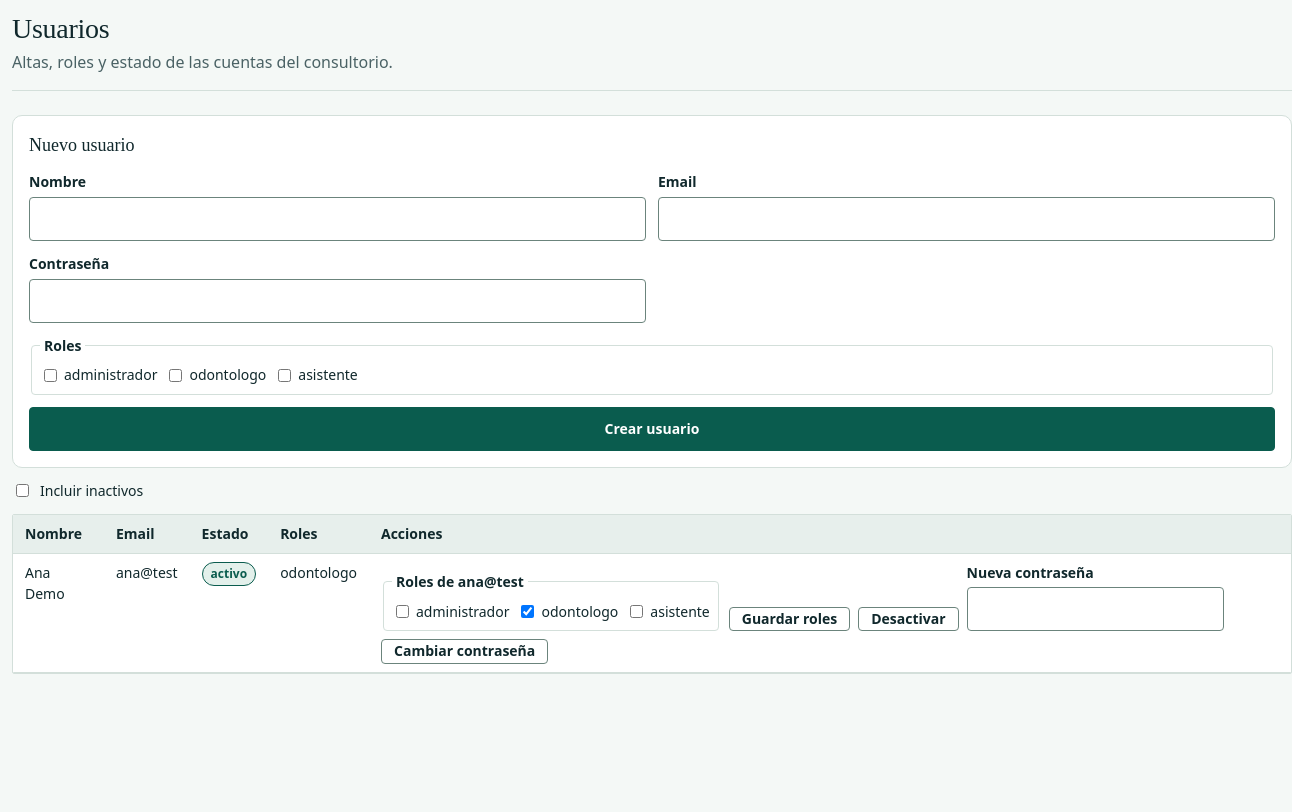
Scenario: UsuariosPage › muestra el 409 del último administrador verbatim y no cambia la fila
The width and height of the screenshot is (1292, 812).
Expected: the text "Ana Demo" is shown, 13,553 -> 104,672
What coordinates should you click on to do the following:
click the button "Desactivar"
I would click on:
 (908, 619)
Its box is 858,607 -> 959,631.
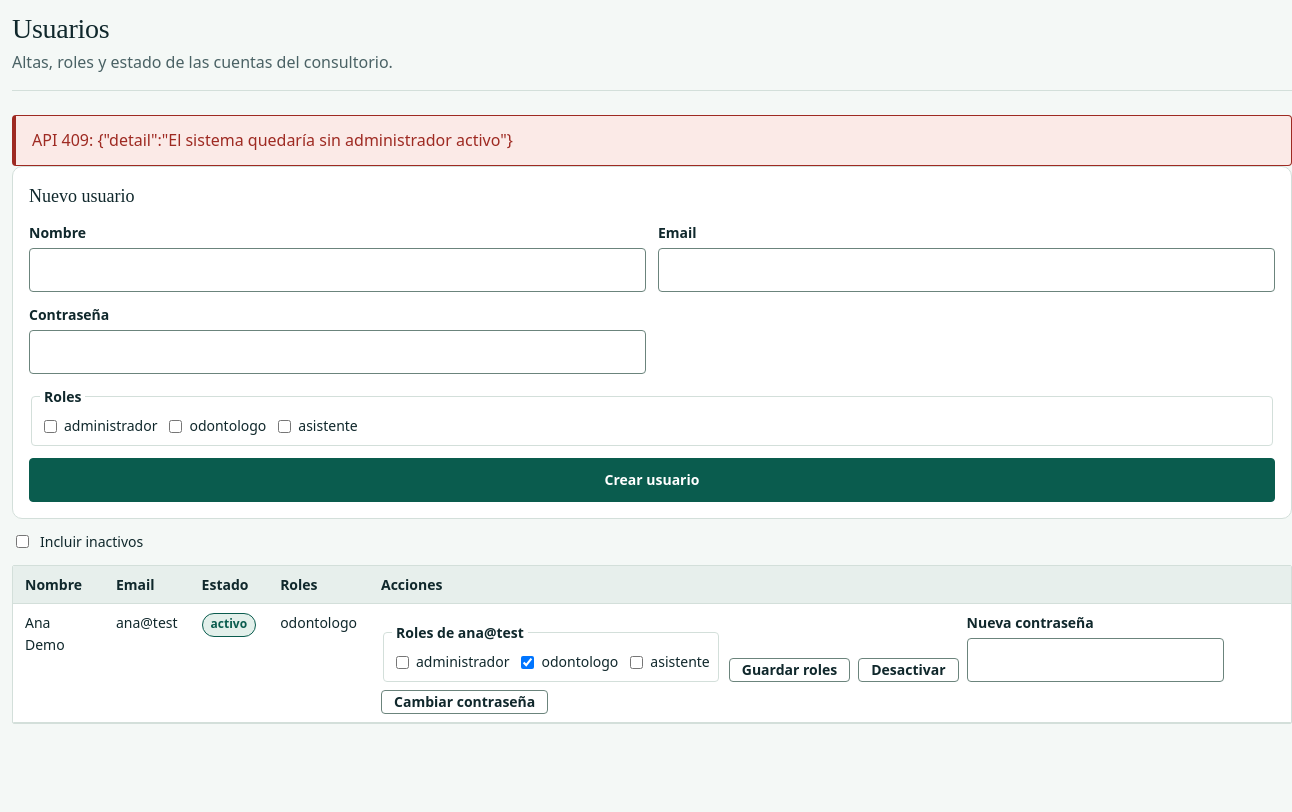
Expected: the text "activo" is shown, 202,613 -> 256,637
Now the message shows "409", box 32,129 -> 513,151
Now the message shows "El sistema quedaría sin administrador activo", box 32,129 -> 513,151
